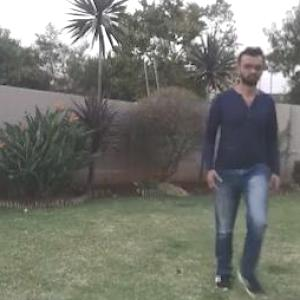follow: (210, 50, 275, 278)
